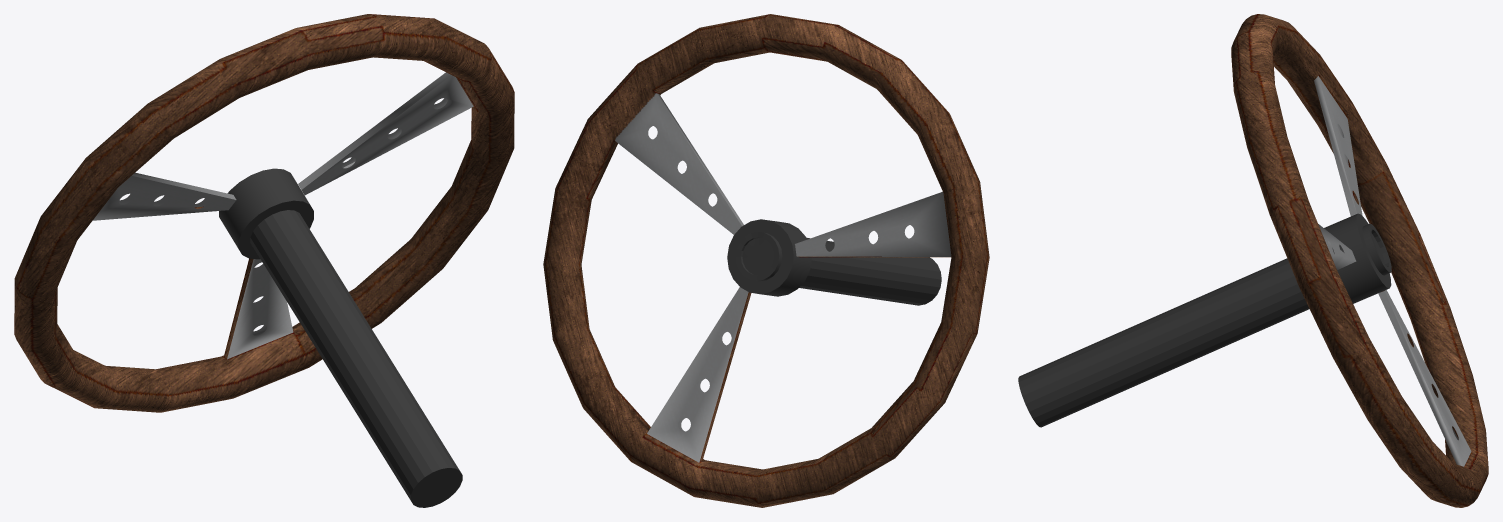
The model's file is volant_2.FBX.
The picture shows the model from 3 angles, left to right: view 1: azimuth 30°, elevation 25°; view 2: azimuth 150°, elevation 25°; view 3: azimuth 270°, elevation 25°; orthographic projection. The views are drawn at different scales.
Visible parts, largest first — view 1: volant_2; view 2: volant_2; view 3: volant_2.
Part boxes in pixels (x1=…): volant_2: x1=14, y1=14, x2=514, y2=507; volant_2: x1=543, y1=14, x2=989, y2=507; volant_2: x1=1018, y1=14, x2=1488, y2=507.
Bounding box in the file's own units: 4.19 × 3.69 × 3.8.
